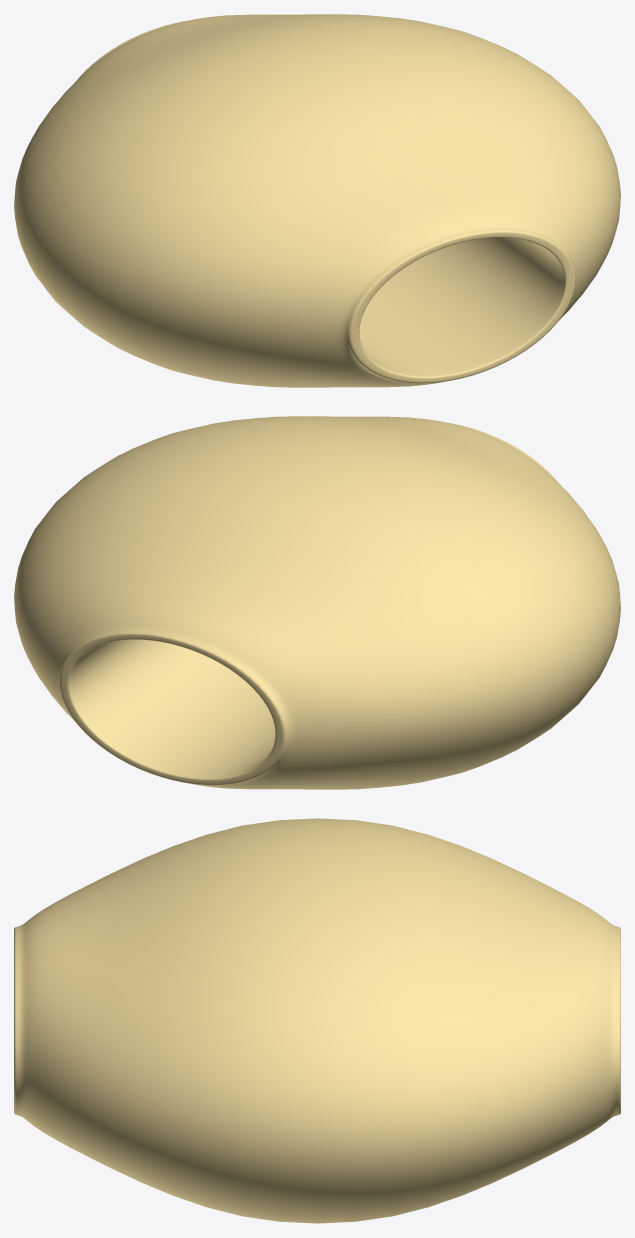
The model's file is Honesty_10mm.glb.
The picture shows the model from 3 angles, top to bottom: view 1: azimuth 30°, elevation 25°; view 2: azimuth 150°, elevation 25°; view 3: azimuth 270°, elevation 25°; orthographic projection. The views are drawn at different scales.
Parts seen in each view (by area): view 1: Honesty_10mm_Hole; view 2: Honesty_10mm_Hole; view 3: Honesty_10mm_Hole.
Part boxes in pixels (box(x1,y1,x2,y2)): Honesty_10mm_Hole: box(14, 14, 620, 387); Honesty_10mm_Hole: box(14, 416, 620, 789); Honesty_10mm_Hole: box(14, 818, 620, 1223).
Size of the model in its own units: 0.0102 by 0.00534 by 0.00968.
